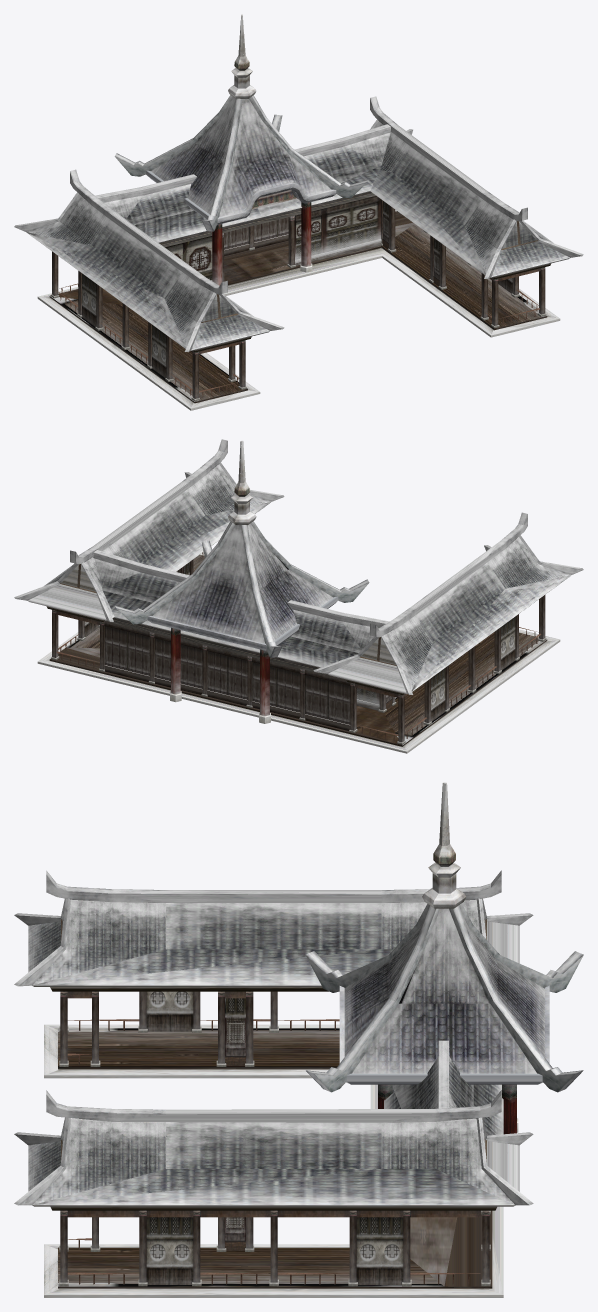
Rendered from snow_building04_lod_01.glb.
3 views of the same model, one above another, from view 1: azimuth 30°, elevation 25°; view 2: azimuth 150°, elevation 25°; view 3: azimuth 270°, elevation 25° (orthographic). The views are drawn at different scales.
Visible parts, largest first — view 1: snow_building04; view 2: snow_building04; view 3: snow_building04.
Part boxes in pixels (<box>): snow_building04: <box>14,14,583,410</box>; snow_building04: <box>14,439,583,753</box>; snow_building04: <box>14,782,583,1297</box>.
Bounding box in the file's own units: 69.19 × 41.96 × 57.02.
Materials: 3 (3 with a texture image).
